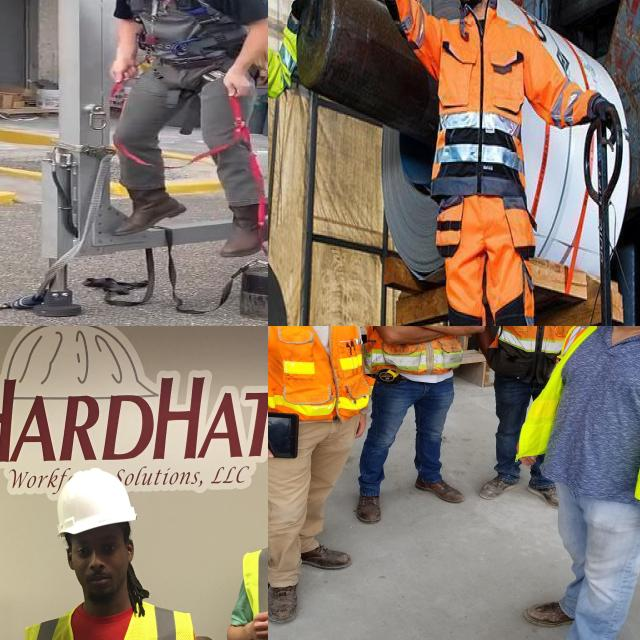No_Glasses: (74, 541, 123, 562)
face_nomask: (61, 531, 138, 597)
hand_glove: (586, 83, 627, 158), (292, 0, 321, 32)
hand_noglove: (247, 603, 268, 640)
head_helmet: (48, 471, 144, 523)
person: (357, 0, 620, 326), (4, 471, 234, 640), (531, 326, 640, 640), (268, 326, 362, 593), (357, 326, 476, 521), (484, 326, 603, 508)
vest: (432, 17, 530, 202), (565, 326, 640, 496), (268, 326, 377, 433), (359, 326, 490, 367), (480, 326, 611, 353)
